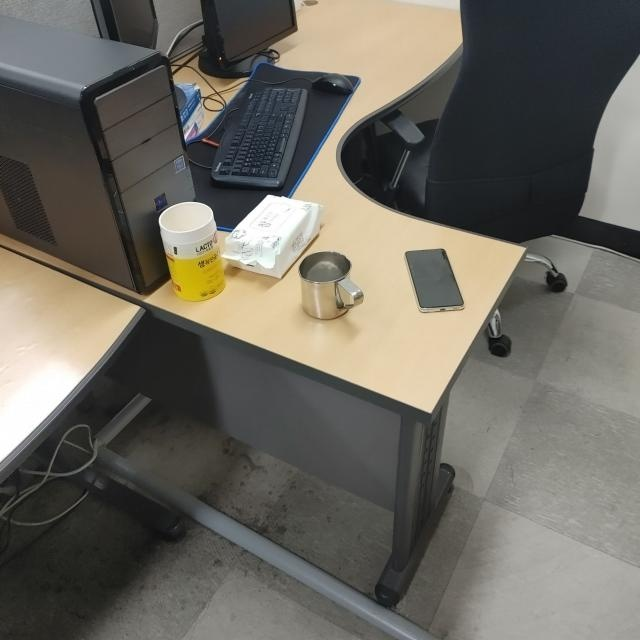cup: (297, 250, 364, 321)
phone: (405, 246, 466, 314)
